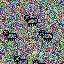sheep: (24, 14, 39, 27), (40, 30, 54, 42), (3, 29, 17, 41), (13, 55, 29, 64)
